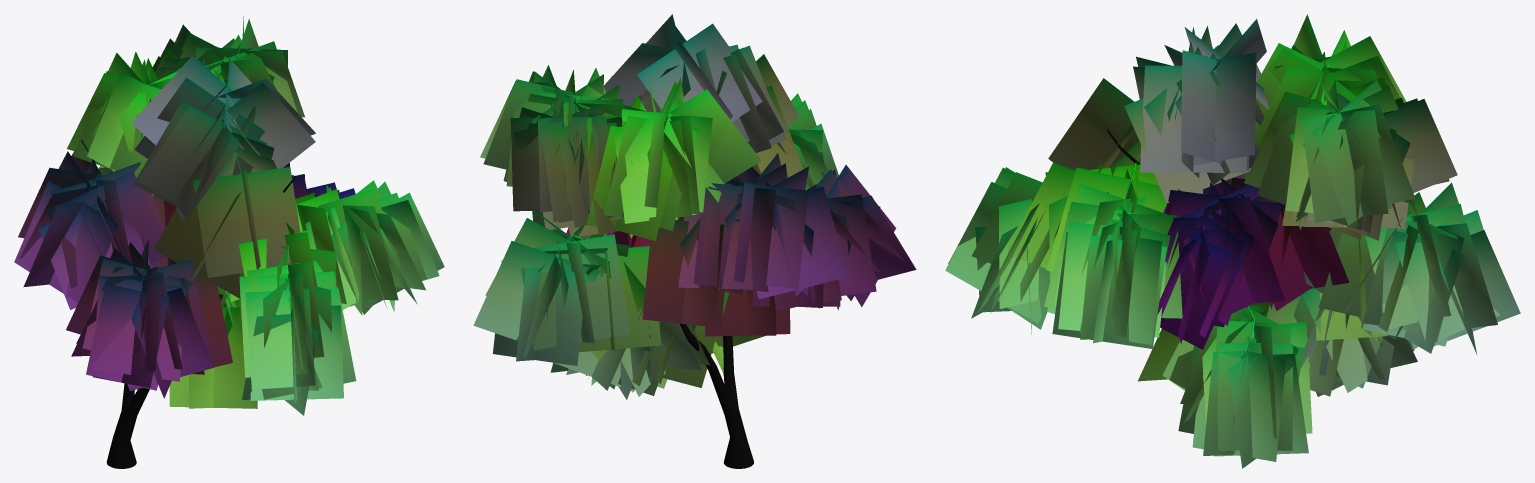
Rendered from URP_P13_Tree_6_LOD_1.fbx.
3 renders of one model, left to right at view 1: azimuth 30°, elevation 25°; view 2: azimuth 150°, elevation 25°; view 3: azimuth 270°, elevation 25°, orthographic. The views are drawn at different scales.
Visible parts, largest first — view 1: Tree_6_LOD_1; view 2: Tree_6_LOD_1; view 3: Tree_6_LOD_1.
Boxes of the visible parts, x1=… form: Tree_6_LOD_1: x1=14, y1=16, x2=444, y2=468; Tree_6_LOD_1: x1=473, y1=14, x2=916, y2=468; Tree_6_LOD_1: x1=945, y1=14, x2=1520, y2=468.
Bounding box in the file's own units: 449 × 487 × 571.
